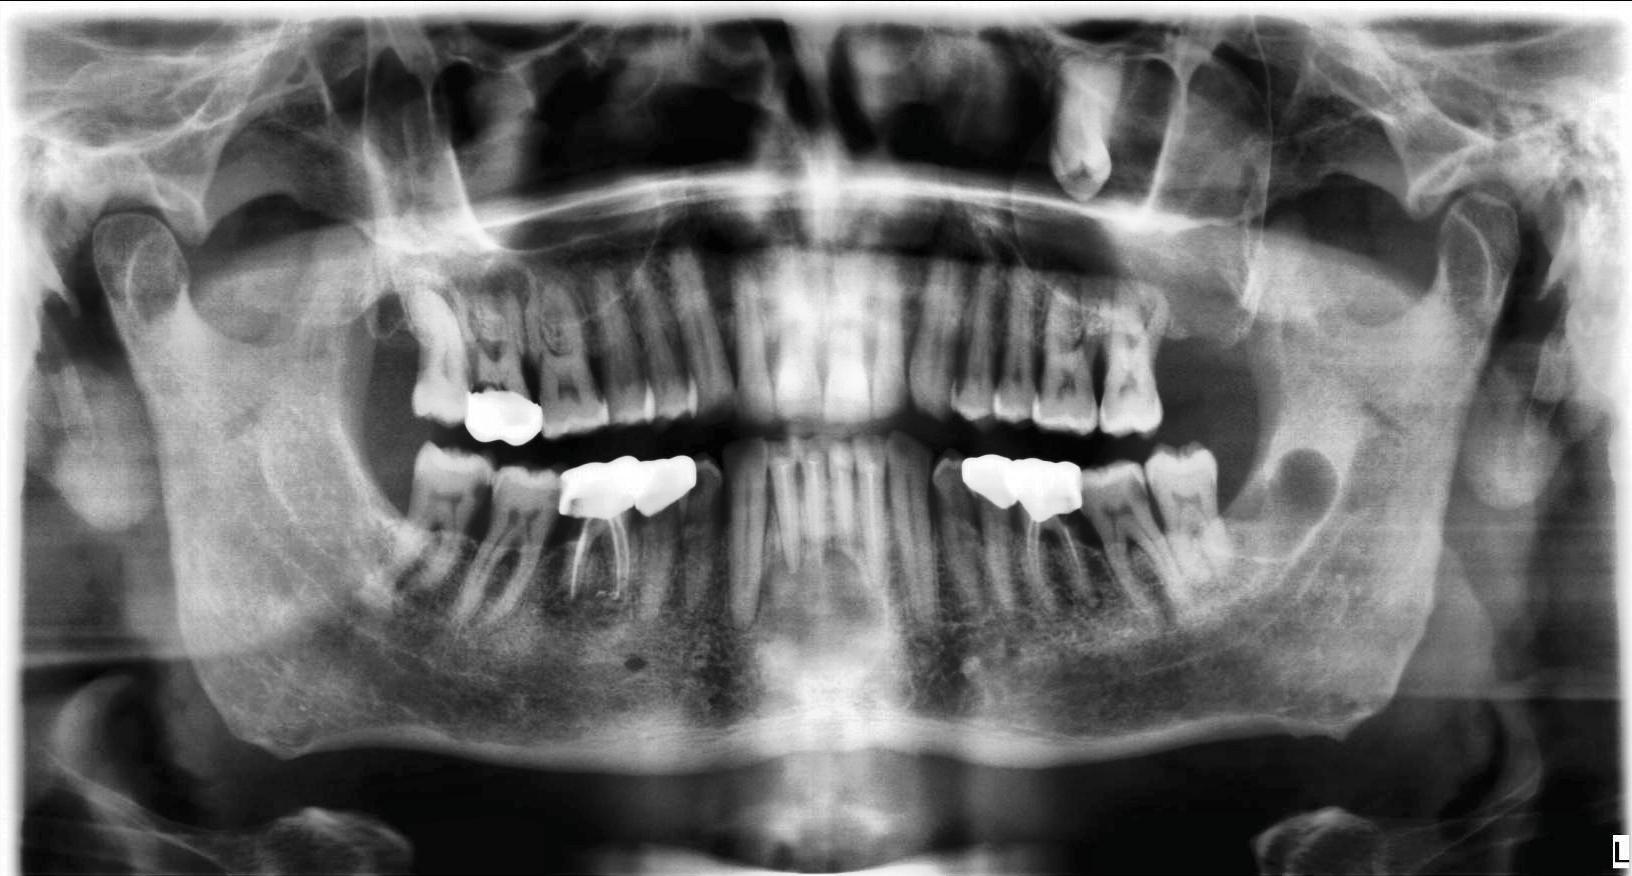radikuler: (760, 540, 889, 682)
